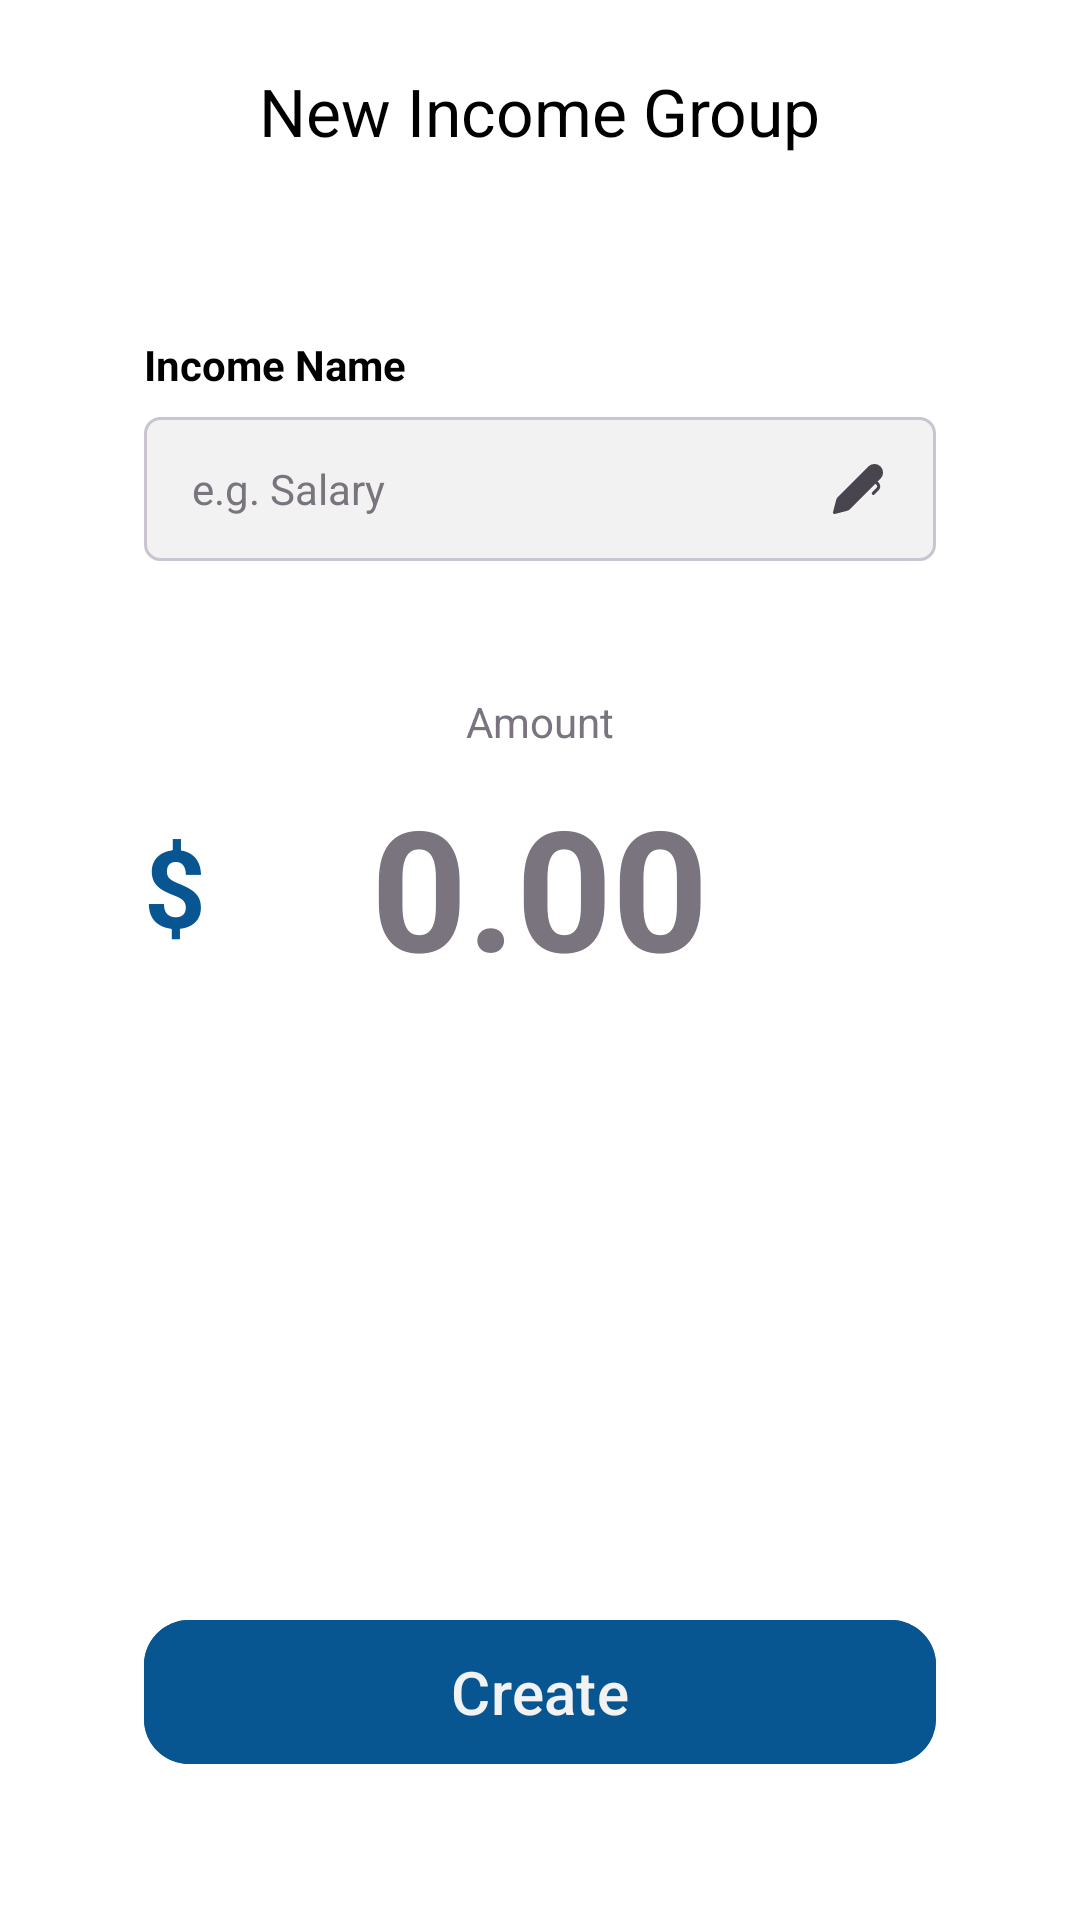

Named icons in this screenshot (1080×1920) and their centers, [x,y]:
pen: [858,489]
